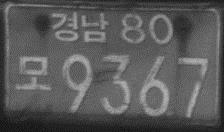0: (147, 12, 174, 45)
3: (98, 53, 132, 116)
6: (137, 53, 171, 117)
7: (176, 55, 209, 122)
8: (120, 11, 145, 45)
9: (60, 53, 94, 113)
경남_O: (47, 10, 110, 45)
모: (13, 55, 53, 93)
